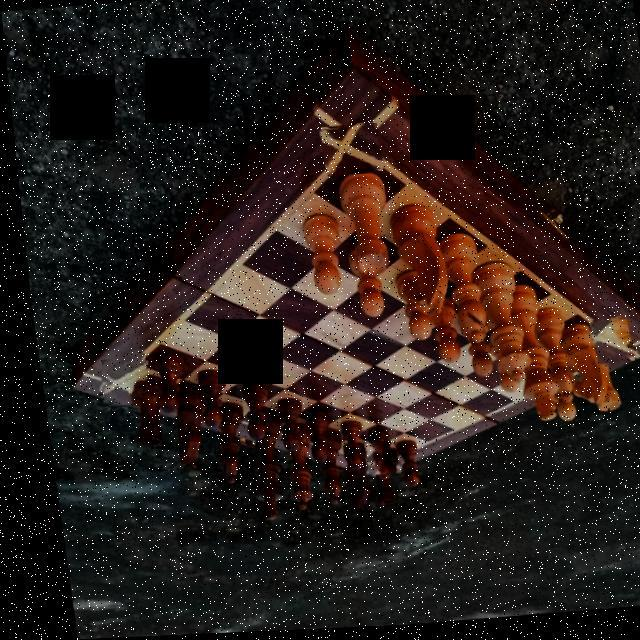chess-table-corners: (316, 125, 380, 179), (88, 352, 142, 408), (581, 322, 630, 371), (354, 443, 391, 478)
